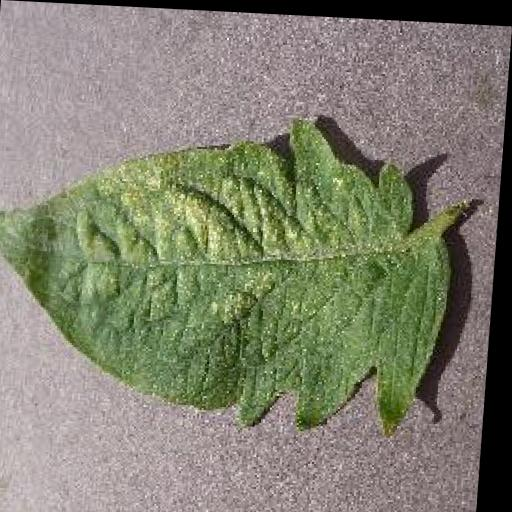Spider Mites: (0, 100, 469, 437)
